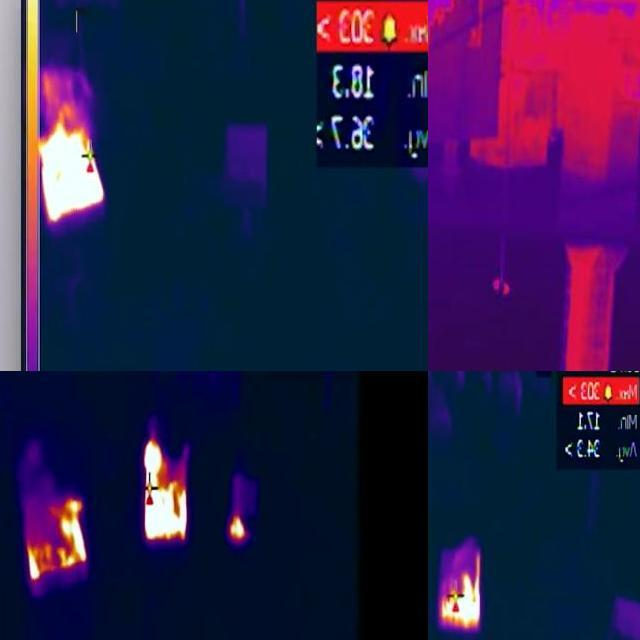fire: (40, 119, 106, 227), (141, 432, 189, 545), (23, 496, 87, 580), (438, 541, 481, 635), (229, 514, 247, 545)
